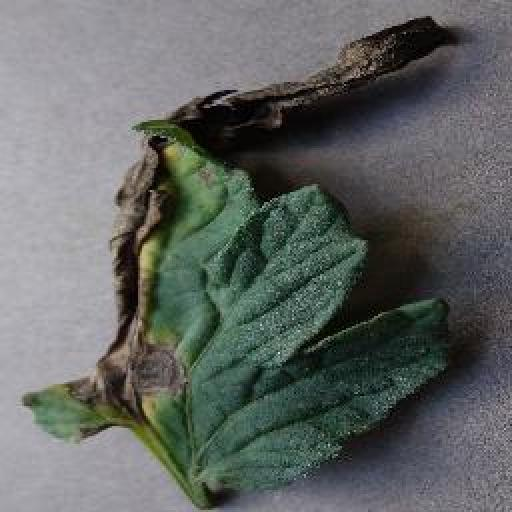Early Blight: (19, 12, 456, 512)
